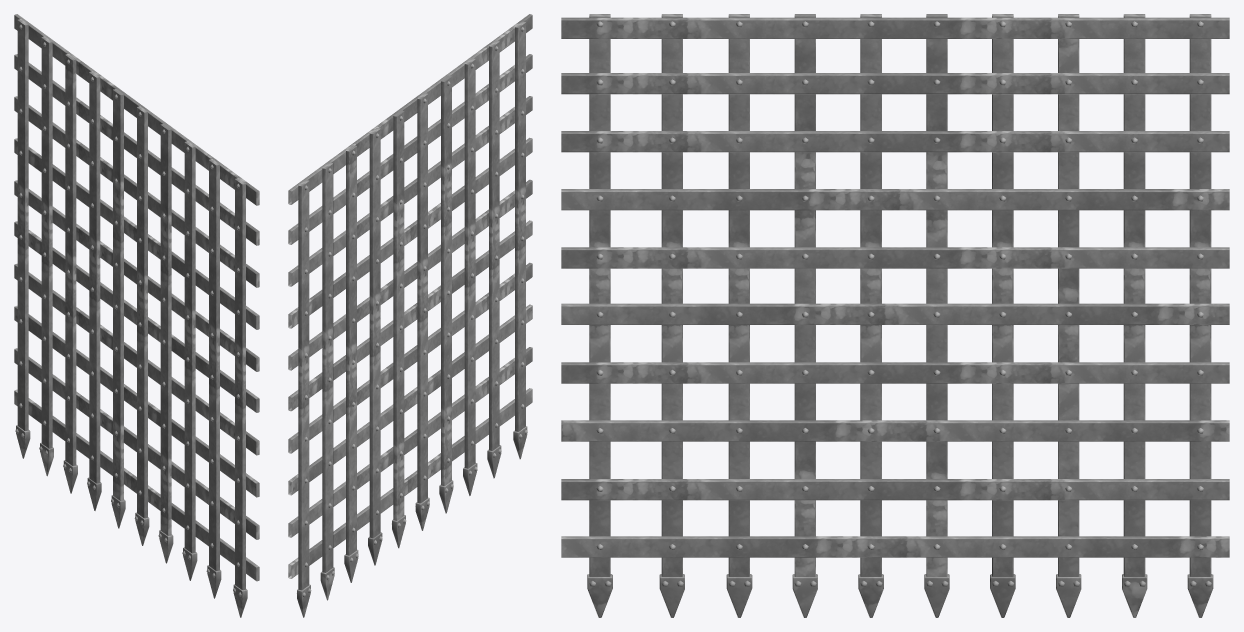
Rendered from SM_MetalGate_01a.fbx.
3 views of the same model, side by side, from view 1: azimuth 30°, elevation 25°; view 2: azimuth 150°, elevation 25°; view 3: azimuth 270°, elevation 25° (orthographic). The views are drawn at different scales.
Parts seen in each view (by area): view 1: SM_MetalGate_01a_LOD0; view 2: SM_MetalGate_01a_LOD0; view 3: SM_MetalGate_01a_LOD0.
Part boxes in pixels (bbox=[...]): SM_MetalGate_01a_LOD0: bbox=[14, 14, 259, 617]; SM_MetalGate_01a_LOD0: bbox=[288, 14, 532, 617]; SM_MetalGate_01a_LOD0: bbox=[561, 14, 1229, 617].
Size of the model in its own units: 12.42 by 434 by 432.
